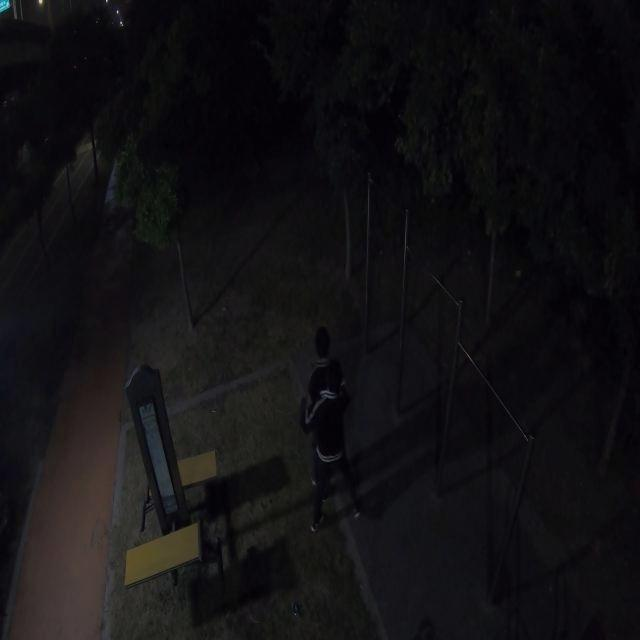fight: (294, 327, 361, 535)
